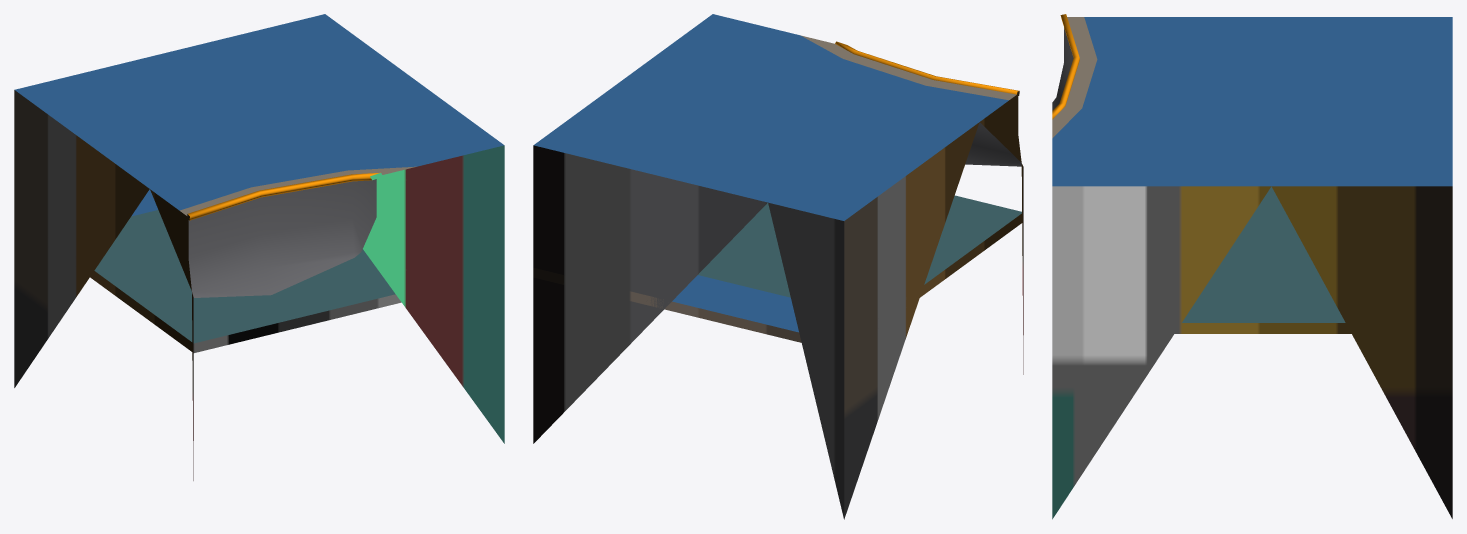
The model's file is tile_10_0_10.gltf.
3 renders of one model, left to right at view 1: azimuth 30°, elevation 25°; view 2: azimuth 150°, elevation 25°; view 3: azimuth 270°, elevation 25°, orthographic. The views are drawn at different scales.
Visible parts, largest first — view 1: pipe.main, ground, pipe.main.rim; view 2: pipe.main, ground, pipe.main.rim; view 3: pipe.main, ground, pipe.main.rim.
Part boxes in pixels (x1,y1,x2,y2): pipe.main: (14,14,504,480); ground: (14,189,401,352); pipe.main.rim: (187,172,382,220); pipe.main: (533,14,1023,519); ground: (533,195,1022,352); pipe.main.rim: (835,41,1019,95); pipe.main: (1052,17,1452,519); ground: (1052,186,1351,333); pipe.main.rim: (1052,14,1079,119).
Size of what is drawn, in the model's own units: 8 by 7.42 by 8.
1 material, 1 textured.
